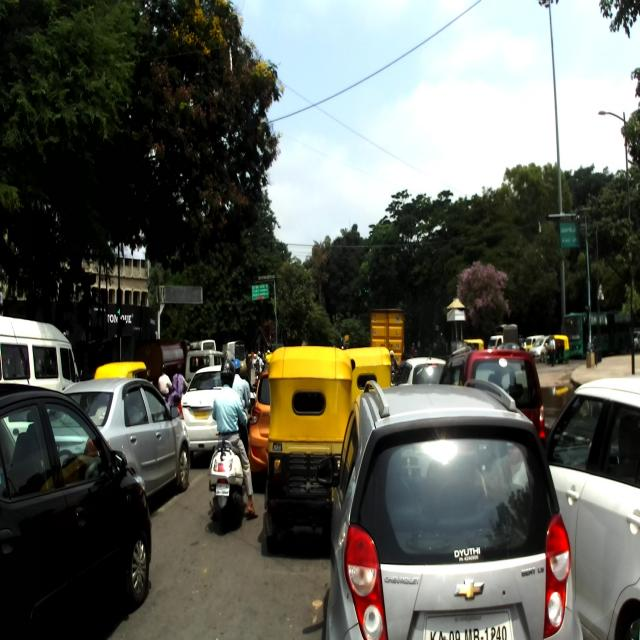Car_Chevrolet: (315, 381, 584, 639)
Car_Hyundai: (0, 382, 152, 639)
Car_Maruti-Suzuki: (542, 370, 640, 640), (438, 349, 544, 447), (176, 365, 233, 453)
Car_Toyota: (59, 376, 190, 496)
autorickshaw: (265, 345, 356, 556)
bus: (561, 309, 633, 356)
mini-bus: (0, 318, 82, 406)
scooter: (207, 398, 255, 530)
